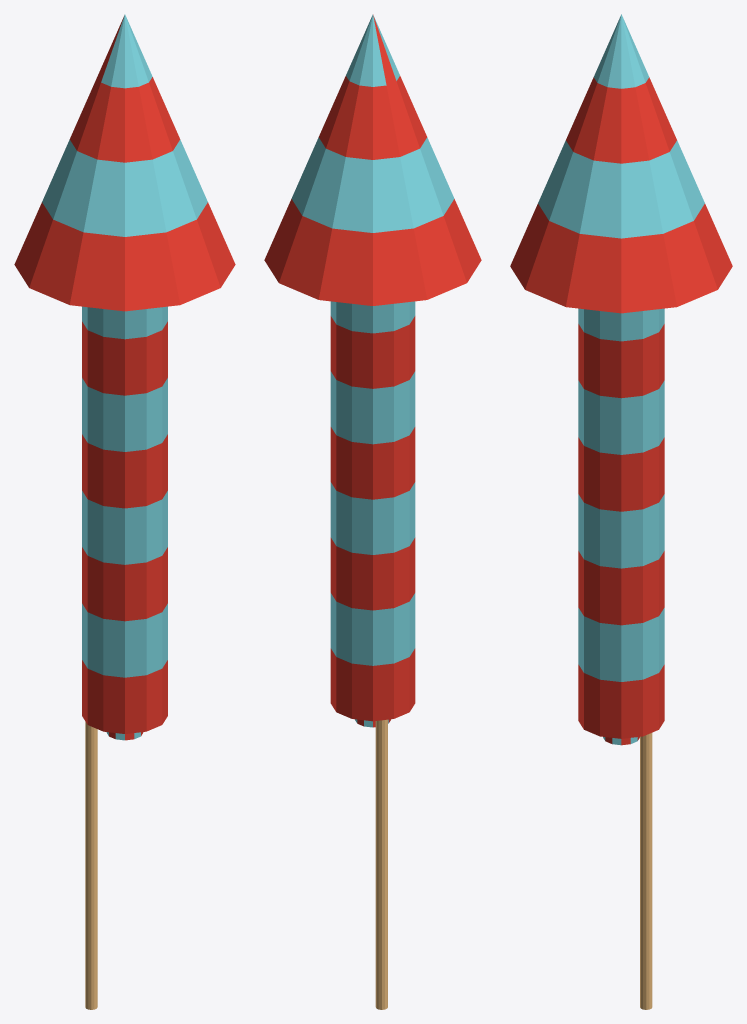
File: firework-by-ian-macgillivray-aGRDxvJQBcD.glb
The picture shows the model from 3 angles, left to right: view 1: azimuth 30°, elevation 25°; view 2: azimuth 150°, elevation 25°; view 3: azimuth 270°, elevation 25°; orthographic projection. The views are drawn at different scales.
Parts seen in each view (by area): view 1: Node; view 2: Node; view 3: Node.
Part boxes in pixels (<box>): Node: <box>14,14,235,1009</box>; Node: <box>264,14,481,1009</box>; Node: <box>510,14,732,1009</box>.
Size of the model in its own units: 0.36 by 1.79 by 0.36.
